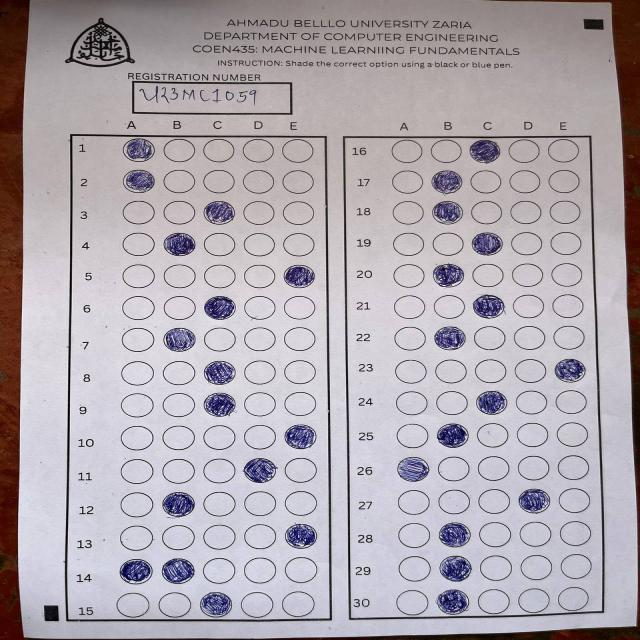bubble: (162, 492, 195, 518), (518, 488, 551, 514), (162, 558, 195, 584), (200, 591, 233, 617), (243, 458, 277, 483), (120, 558, 152, 584), (285, 523, 317, 549), (440, 555, 472, 581), (397, 457, 430, 482), (436, 589, 469, 614), (284, 424, 316, 449), (437, 423, 469, 448), (204, 392, 236, 417), (439, 522, 471, 547), (122, 138, 155, 162), (164, 327, 197, 351), (203, 201, 236, 225), (163, 232, 196, 256), (433, 263, 464, 288), (284, 264, 316, 288), (204, 360, 236, 384), (204, 296, 236, 320), (473, 294, 505, 318), (124, 169, 155, 193), (431, 170, 462, 194), (432, 201, 463, 225), (555, 358, 586, 382), (434, 326, 465, 350), (470, 140, 500, 164), (471, 232, 502, 255), (476, 391, 507, 414)
